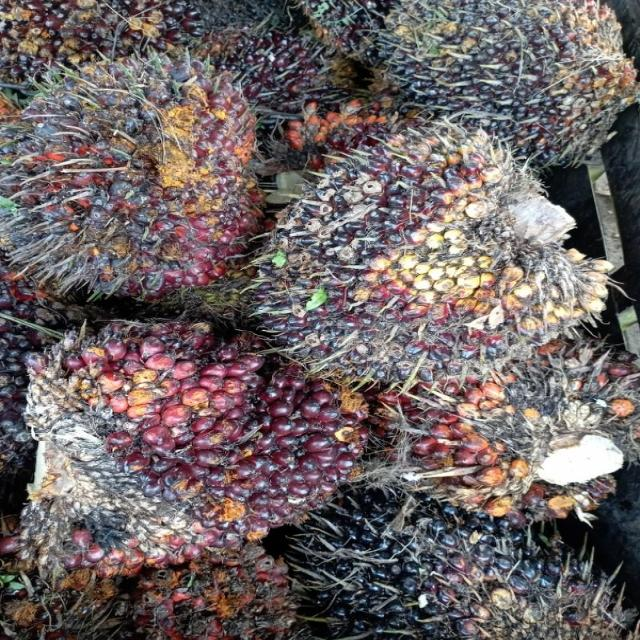fraksi 00: (276, 132, 605, 368), (285, 477, 640, 640), (374, 0, 636, 145)
fraksi 1: (17, 311, 358, 572), (9, 56, 279, 300)
